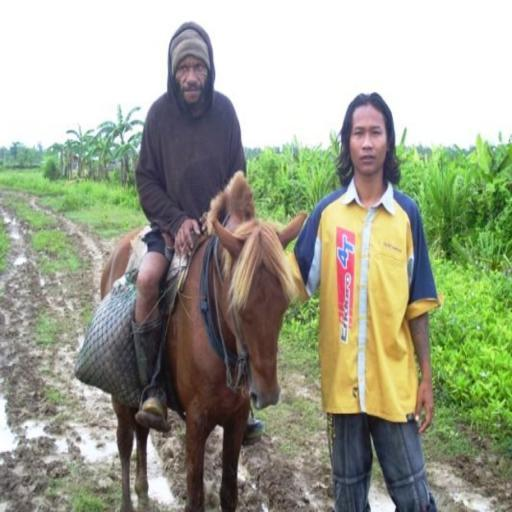Horse: (99, 170, 308, 511)
